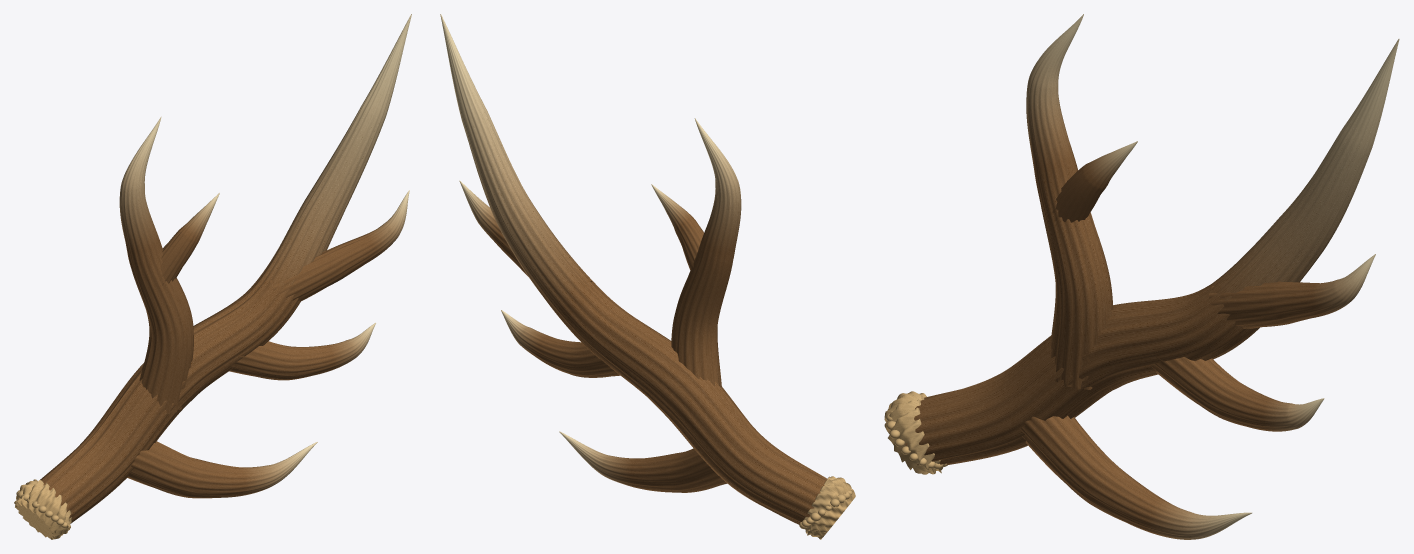
File: stag_antler.glb
3 views of the same model, side by side, from view 1: azimuth 30°, elevation 25°; view 2: azimuth 150°, elevation 25°; view 3: azimuth 330°, elevation 25° (orthographic). The views are drawn at different scales.
Parts seen in each view (by area): view 1: Brown antler bark grain with polished cream tips, Antler burr porous bone; view 2: Brown antler bark grain with polished cream tips, Antler burr porous bone; view 3: Brown antler bark grain with polished cream tips, Antler burr porous bone.
Boxes of the visible parts, bbox=[...] form: Brown antler bark grain with polished cream tips: bbox=[40, 14, 411, 523]; Antler burr porous bone: bbox=[14, 479, 71, 539]; Brown antler bark grain with polished cream tips: bbox=[440, 14, 826, 524]; Antler burr porous bone: bbox=[799, 476, 855, 539]; Brown antler bark grain with polished cream tips: bbox=[905, 14, 1399, 539]; Antler burr porous bone: bbox=[884, 391, 947, 474].
Size of the model in its own units: 0.5047 by 0.5185 by 0.0829.
2 materials, 2 textured.
